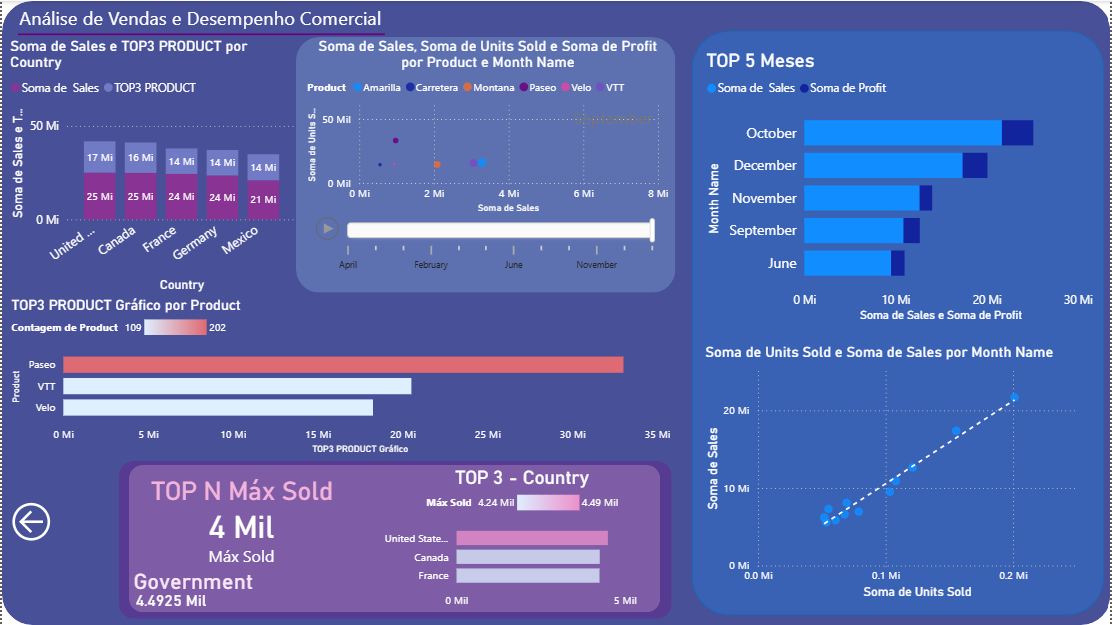

What the dashboard file says about the page in this screenshot:
{"tool":"powerbi","page":{"name":"TOPN & Outliers","canvas":[1280,720],"ordinal":3},"visuals":[{"type":"shape","box":[0,0,1280,720],"z":0},{"type":"shape","box":[19.4,7.8,423,60.7],"z":0,"group":"g3"},{"type":"shape","box":[338.8,42,437.9,295.2],"z":0,"group":"g2"},{"type":"shape","box":[135.3,530.4,637.7,182],"z":0,"group":"g1"},{"type":"shape","box":[147.3,534.5,612.9,169.8],"z":500,"group":"g1"},{"type":"textbox","box":[15.6,0,439.3,48.2],"z":1000,"group":"g3"},{"type":"scatterChart","fields":{"X":["Sum(financials. Sales)"],"Y":["Sum(financials.Units Sold)"],"Series":["financials.Product"],"Size":["Sum(financials.Profit)"],"Play":["financials.Month Name"]},"box":[346.3,41.5,426.7,287.4],"z":1000,"group":"g2"},{"type":"group","id":"g1","title":"Grupo 1","box":[135.3,530.4,637.7,189.7],"z":1000},{"type":"cardVisual","title":"TOP N Máx Sold","fields":{"Data":["financials.Máx Sold"]},"box":[141.4,547.7,272,107.4],"z":1000,"group":"g1"},{"type":"shape","box":[796.2,34.6,475.4,673.8],"z":2000},{"type":"cardVisual","fields":{"Data":["financials.Segmento Máx Sold"]},"box":[135.4,636.6,266.4,54.7],"z":2000,"group":"g1"},{"type":"barChart","title":"TOP 5 Meses","fields":{"Category":["financials.Month Name"],"Y":["Sum(financials. Sales)","Sum(financials.Profit)"]},"box":[807.2,56,455.7,318.8],"z":3000},{"type":"cardVisual","fields":{"Data":["financials.Máx Sold"]},"box":[138.6,654.7,198.3,65.4],"z":3000,"group":"g1"},{"type":"clusteredBarChart","title":"TOP 3 - Country","fields":{"Category":["financials.Country"],"Y":["financials.Máx Sold"]},"box":[423.4,537.7,353.2,172.1],"z":4000},{"type":"scatterChart","fields":{"X":["Sum(financials.Units Sold)"],"Y":["Sum(financials. Sales)"],"Category":["financials.Month Name"]},"box":[807.1,395,455.7,299.9],"z":5000},{"type":"actionButton","box":[6.2,569.2,56,63.8],"z":6000},{"type":"columnChart","fields":{"Category":["financials.Country"],"Y":["Sum(financials. Sales)","financials.TOP3 PRODUCT"]},"box":[4.8,41.5,340.4,298.8],"z":7000},{"type":"clusteredBarChart","fields":{"Category":["financials.Product"],"Y":["financials.TOP3 PRODUCT Gráfico"]},"box":[6.2,340.6,770.2,187],"z":8000},{"type":"group","id":"g2","title":"Grupo 3","box":[338.8,41.5,437.9,295.6],"z":9000},{"type":"group","id":"g3","title":"Sales report","box":[15.6,0,438.6,68.4],"z":10000}]}

Visuals, with their boxes in screenshot pixels (x1, y1, x2, y2), scaled from the page's 1280x720 canvas onto the 1112x625 screenshot:
shape: (x1=0, y1=0, x2=1111, y2=624)
shape: (x1=17, y1=7, x2=384, y2=59)
shape: (x1=294, y1=36, x2=675, y2=293)
shape: (x1=118, y1=460, x2=672, y2=618)
shape: (x1=128, y1=464, x2=660, y2=611)
textbox: (x1=14, y1=0, x2=395, y2=42)
scatterChart - Sum(financials. Sales) x Sum(financials.Units Sold): (x1=301, y1=36, x2=672, y2=286)
"Grupo 1" group: (x1=118, y1=460, x2=672, y2=624)
"TOP N Máx Sold" cardVisual: (x1=123, y1=475, x2=359, y2=569)
shape: (x1=692, y1=30, x2=1105, y2=615)
cardVisual - financials.Segmento Máx Sold: (x1=118, y1=553, x2=349, y2=600)
"TOP 5 Meses" barChart: (x1=701, y1=49, x2=1097, y2=325)
cardVisual - financials.Máx Sold: (x1=120, y1=568, x2=293, y2=624)
"TOP 3 - Country" clusteredBarChart: (x1=368, y1=467, x2=675, y2=616)
scatterChart - Sum(financials.Units Sold) x Sum(financials. Sales): (x1=701, y1=343, x2=1097, y2=603)
actionButton: (x1=5, y1=494, x2=54, y2=549)
columnChart - financials.Country x Sum(financials. Sales): (x1=4, y1=36, x2=300, y2=295)
clusteredBarChart - financials.Product x financials.TOP3 PRODUCT Gráfico: (x1=5, y1=296, x2=674, y2=458)
"Grupo 3" group: (x1=294, y1=36, x2=675, y2=293)
"Sales report" group: (x1=14, y1=0, x2=395, y2=59)
